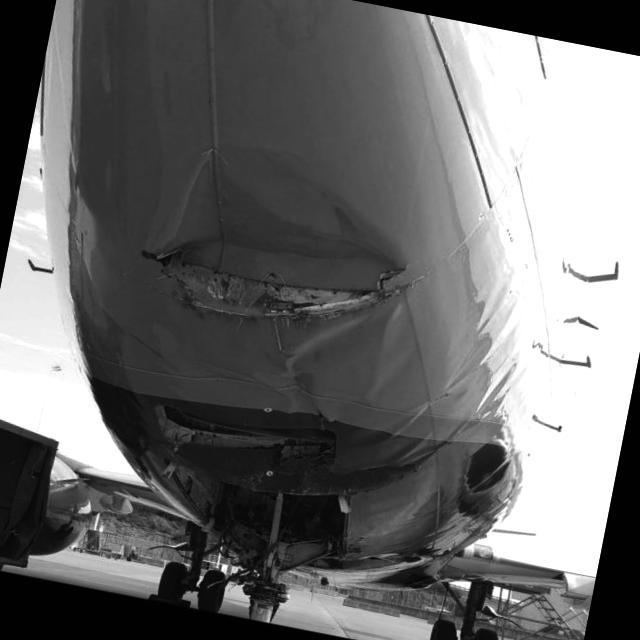dent: (154, 142, 423, 294), (286, 307, 368, 386)
